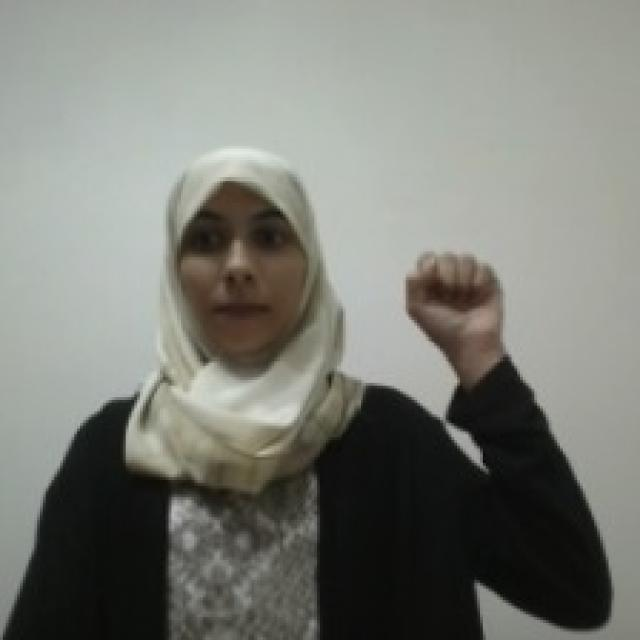yes: (400, 246, 510, 347)
